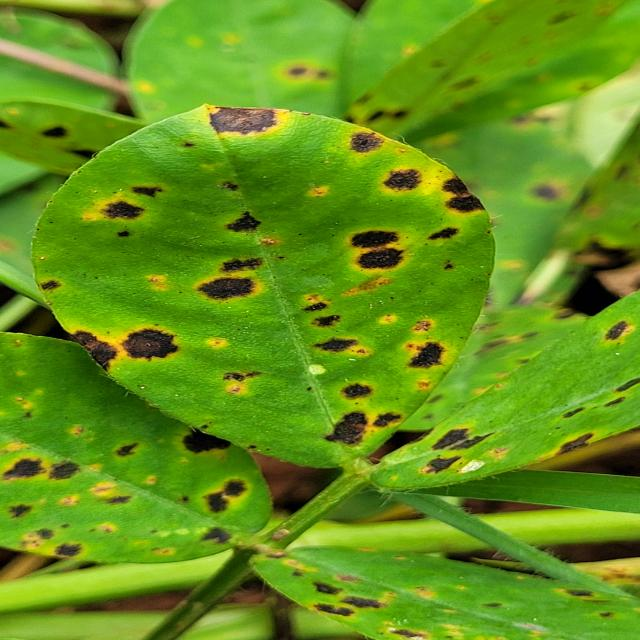Ground nut_tikka leaf spot: (23, 100, 499, 470)
